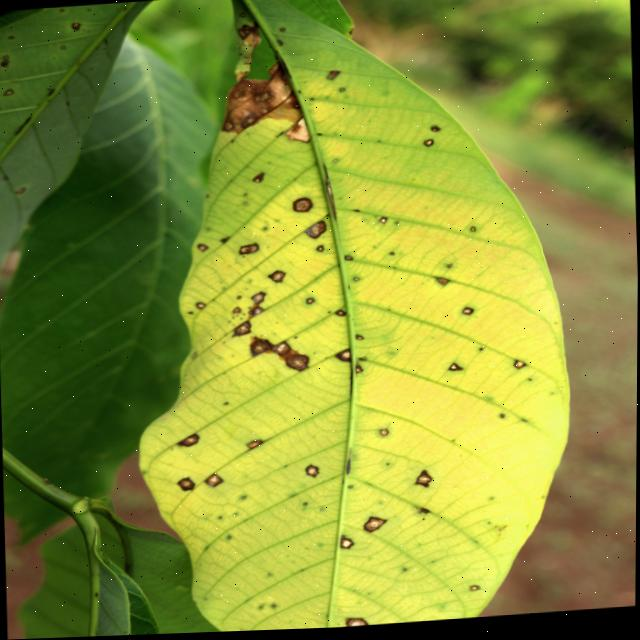Colletotrichum: (285, 355, 309, 375), (302, 222, 325, 241), (362, 518, 387, 535), (230, 321, 252, 339), (249, 340, 270, 358), (291, 198, 313, 215), (177, 477, 195, 493), (177, 435, 199, 448), (271, 343, 290, 358), (205, 474, 223, 489), (238, 245, 259, 257), (345, 619, 369, 629), (267, 272, 285, 285), (338, 537, 353, 552), (249, 292, 265, 306), (305, 467, 319, 480), (245, 441, 262, 451), (325, 72, 339, 83), (512, 364, 526, 373), (196, 244, 208, 253), (462, 310, 473, 319), (253, 308, 263, 317), (422, 142, 433, 150), (334, 312, 346, 319), (70, 23, 80, 31), (304, 300, 314, 307), (469, 588, 480, 594), (430, 128, 439, 135), (378, 432, 388, 438), (2, 90, 12, 96), (315, 248, 323, 254), (378, 219, 386, 225), (388, 254, 394, 259), (469, 230, 475, 235), (278, 29, 284, 33), (338, 90, 344, 94), (353, 280, 357, 282)
Leaf-Blight: (216, 22, 305, 136)
